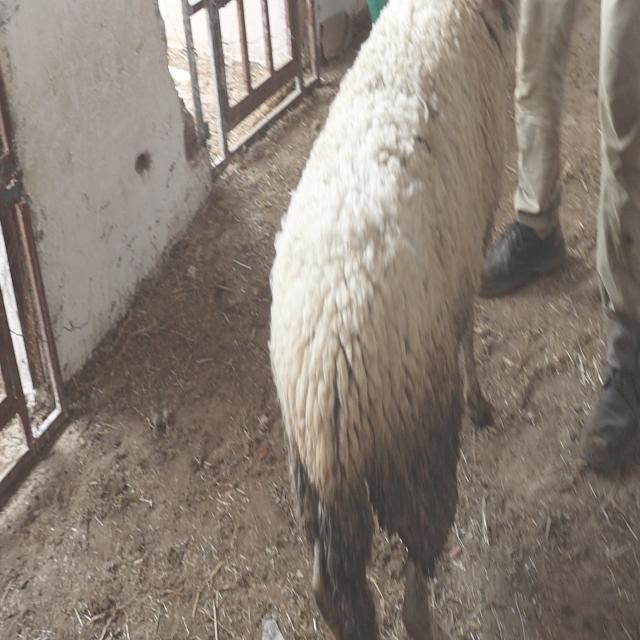Score_4: (269, 0, 519, 639)
